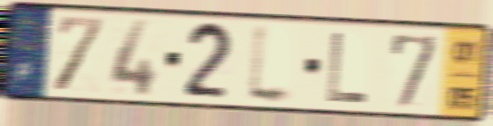2: (180, 17, 238, 107)
4: (106, 16, 162, 99)
7: (386, 32, 441, 110), (54, 14, 106, 95)
L: (244, 19, 298, 110), (323, 29, 372, 107)
